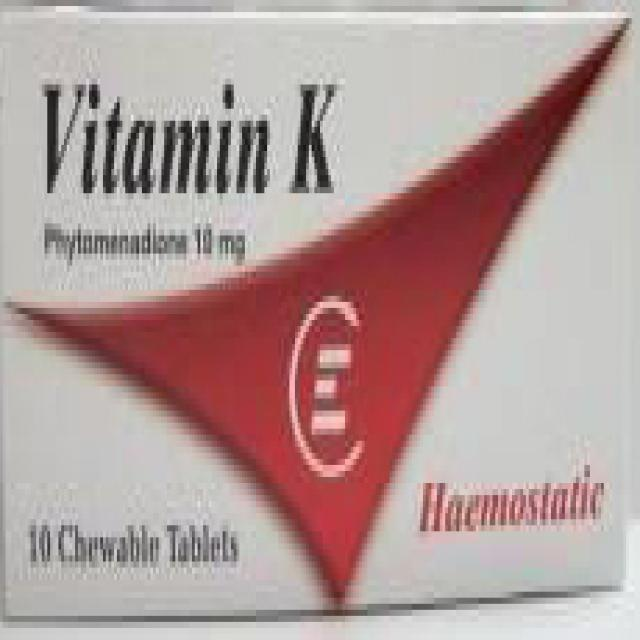drug-name: (34, 72, 355, 200)
